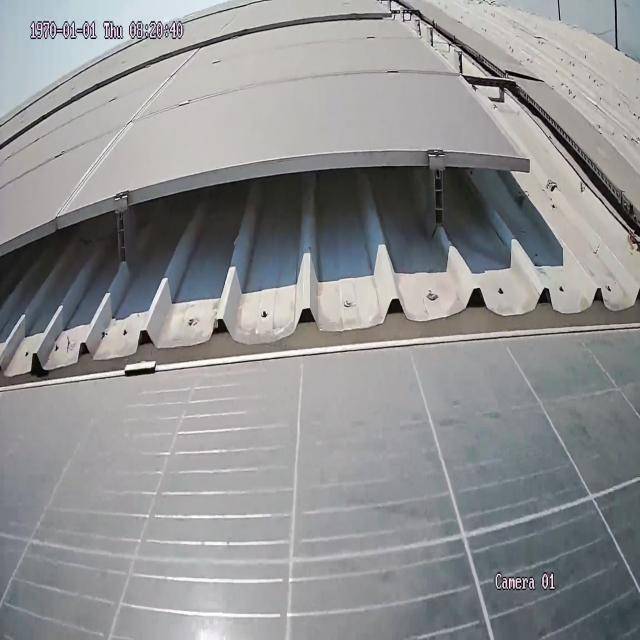interior panel: (59, 58, 197, 201)
outher panel: (0, 2, 640, 387)
